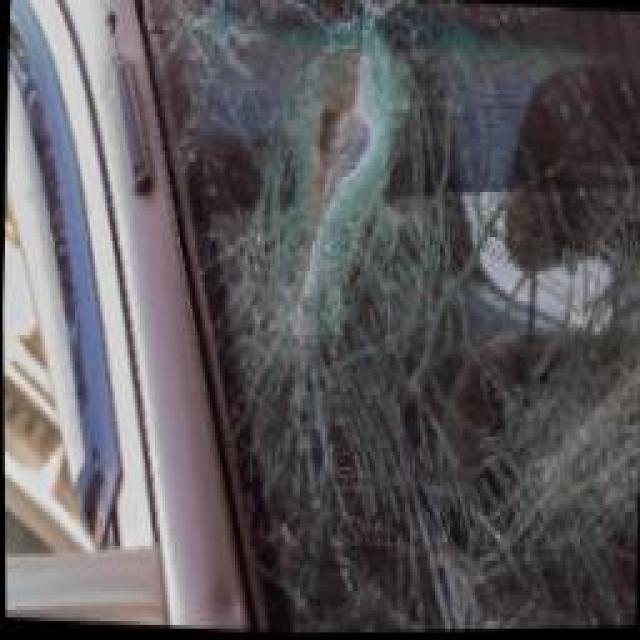Windshield: (115, 0, 640, 638)
